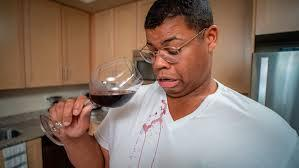oil: (134, 118, 154, 136), (131, 139, 143, 167), (152, 138, 161, 166), (149, 102, 165, 117), (156, 116, 164, 135)
